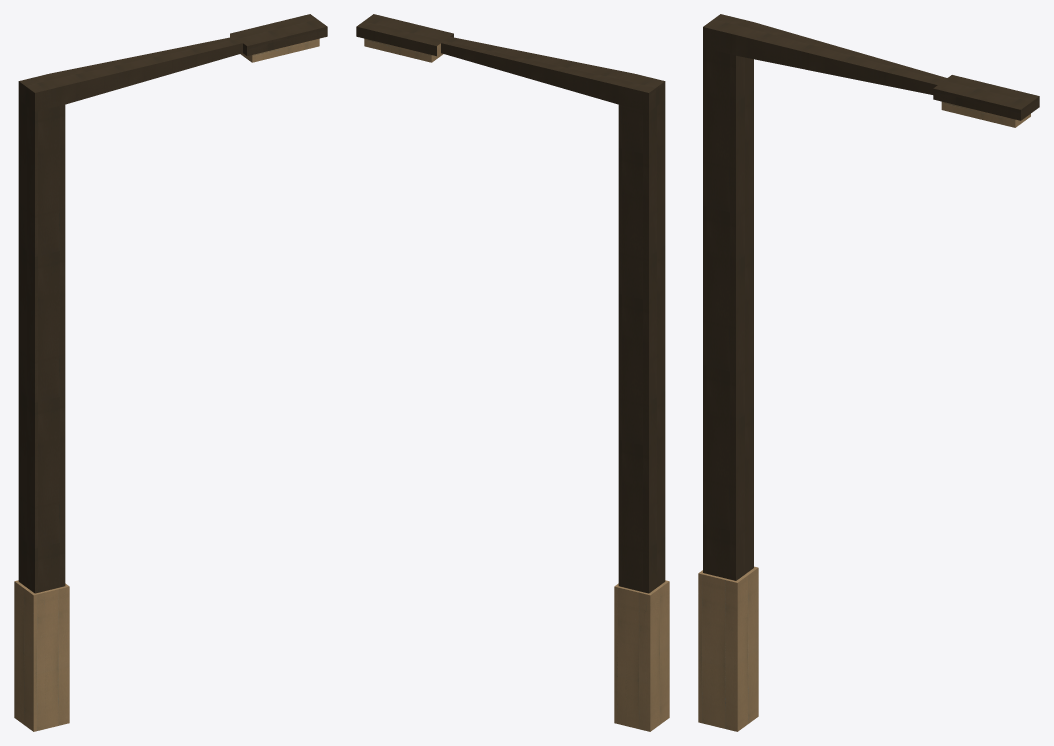
Rendered from lampost.gltf.
3 views of the same model, side by side, from view 1: azimuth 30°, elevation 25°; view 2: azimuth 150°, elevation 25°; view 3: azimuth 330°, elevation 25° (orthographic). The views are drawn at different scales.
Visible parts, largest first — view 1: Cube; view 2: Cube; view 3: Cube.
Part boxes in pixels (box(x1,y1,x2,y2)): Cube: box(14, 14, 327, 731); Cube: box(356, 14, 669, 731); Cube: box(698, 14, 1039, 731).
Bounding box in the file's own units: 4.52 × 9.33 × 0.5099.
